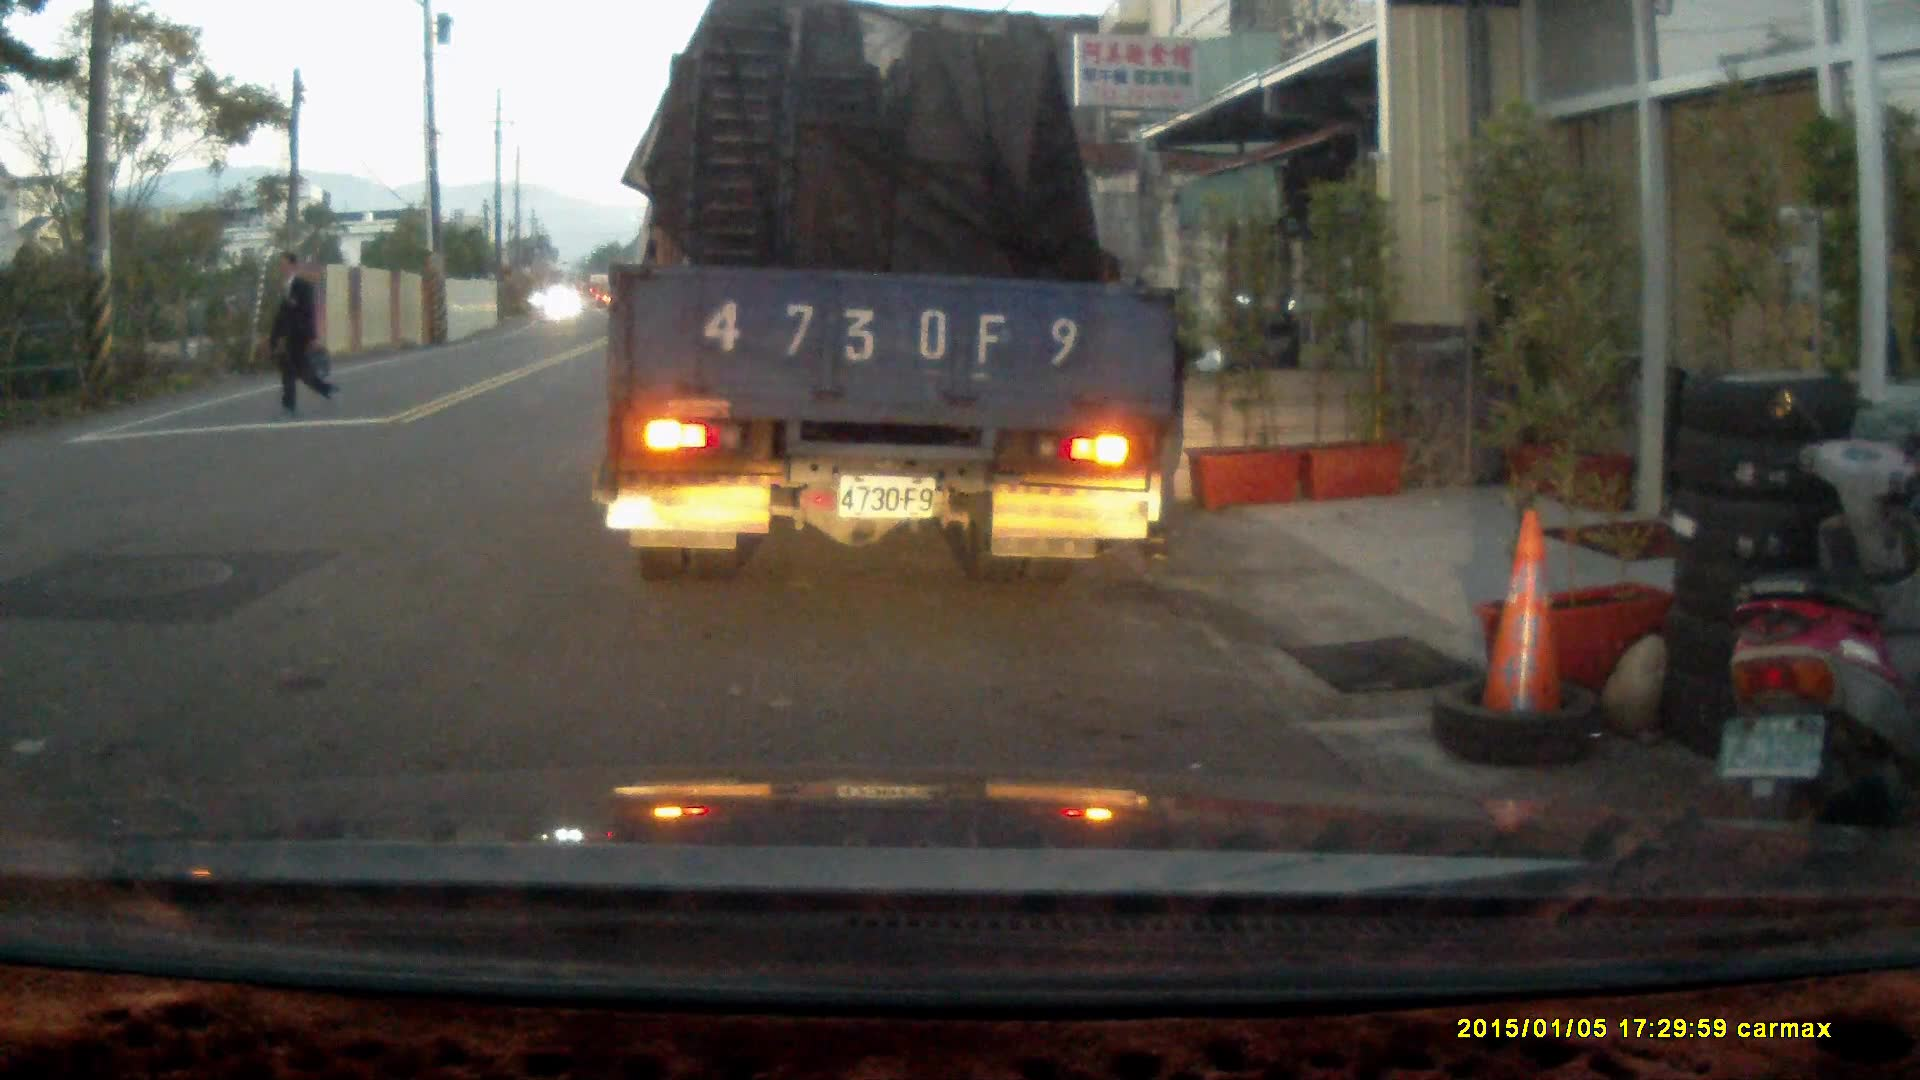pedestrian: (262, 248, 340, 422)
vehicle: (604, 23, 1188, 572)
